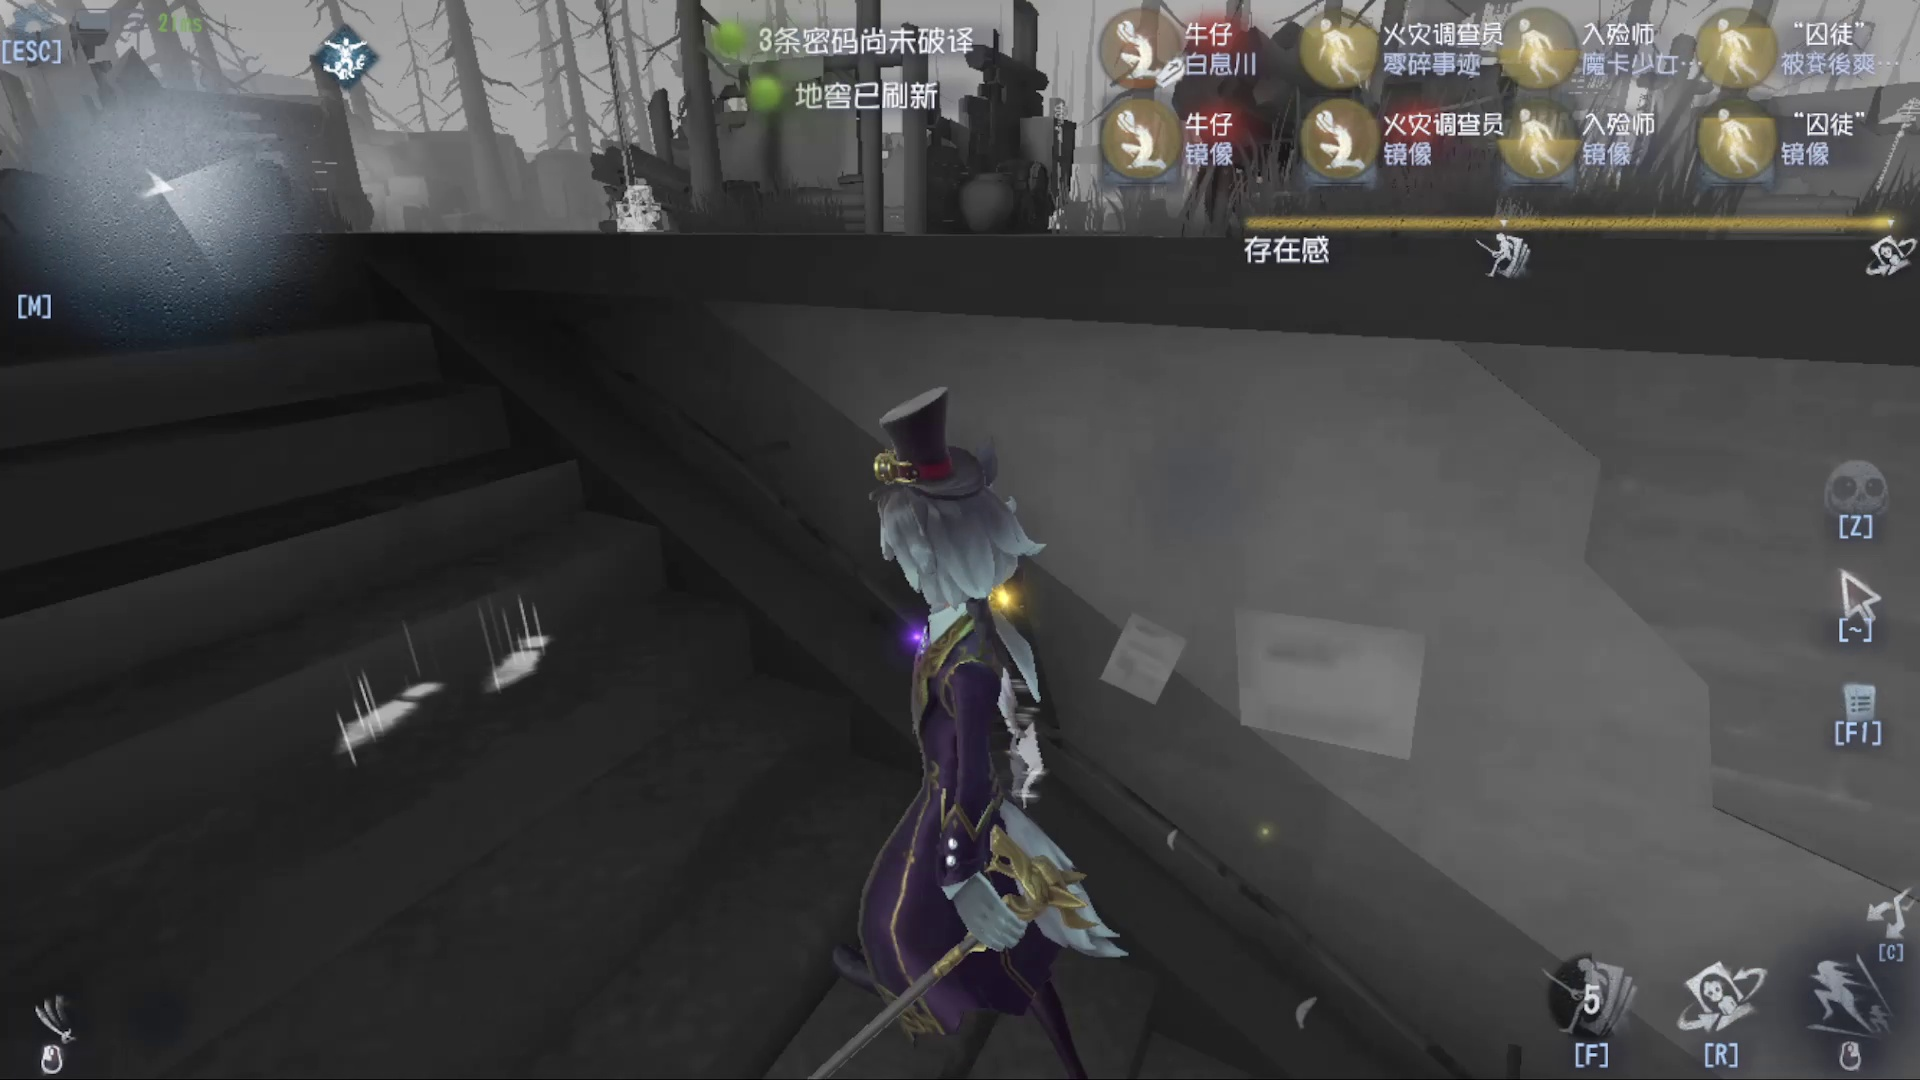密码机: (546, 49, 688, 251)
